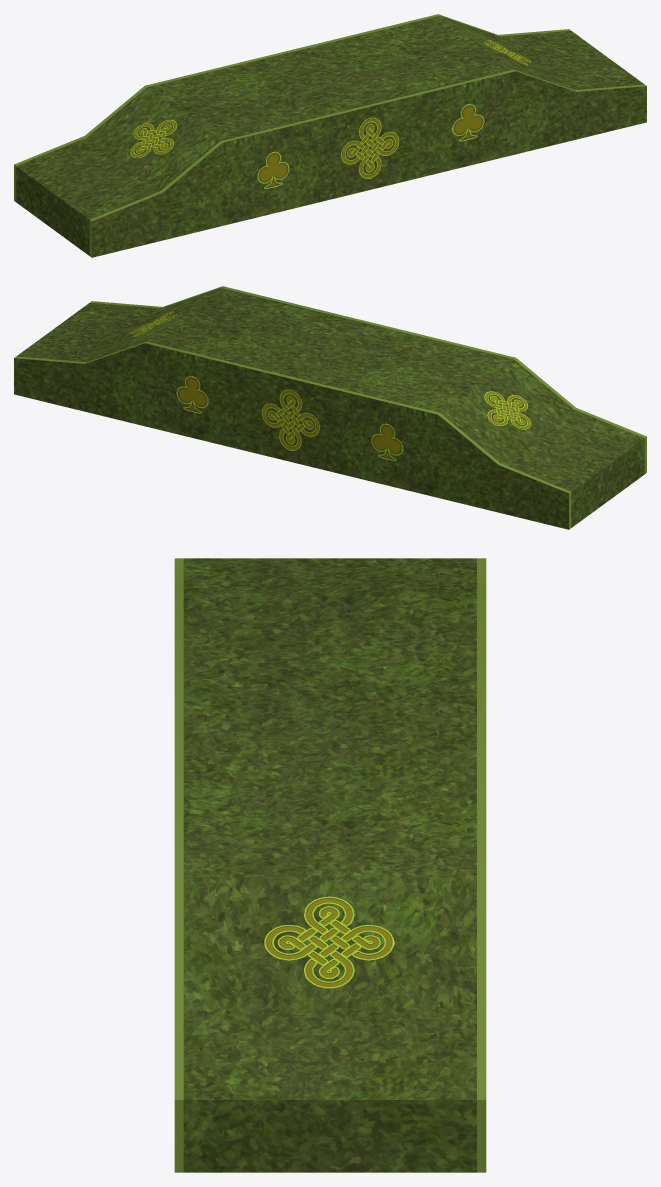
File: mountain_stepslope.gltf
The picture shows the model from 3 angles, top to bottom: view 1: azimuth 30°, elevation 25°; view 2: azimuth 150°, elevation 25°; view 3: azimuth 270°, elevation 25°; orthographic projection. The views are drawn at different scales.
Visible parts, largest first — view 1: mountain_stepslope_glb; view 2: mountain_stepslope_glb; view 3: mountain_stepslope_glb.
Boxes of the visible parts, bbox=[...] form: mountain_stepslope_glb: bbox=[14, 14, 646, 257]; mountain_stepslope_glb: bbox=[14, 286, 646, 529]; mountain_stepslope_glb: bbox=[174, 558, 486, 1172].
Size of what is drawn, in the model's own units: 4 by 0.5727 by 0.9795.
Materials: 2 (2 with a texture image).
